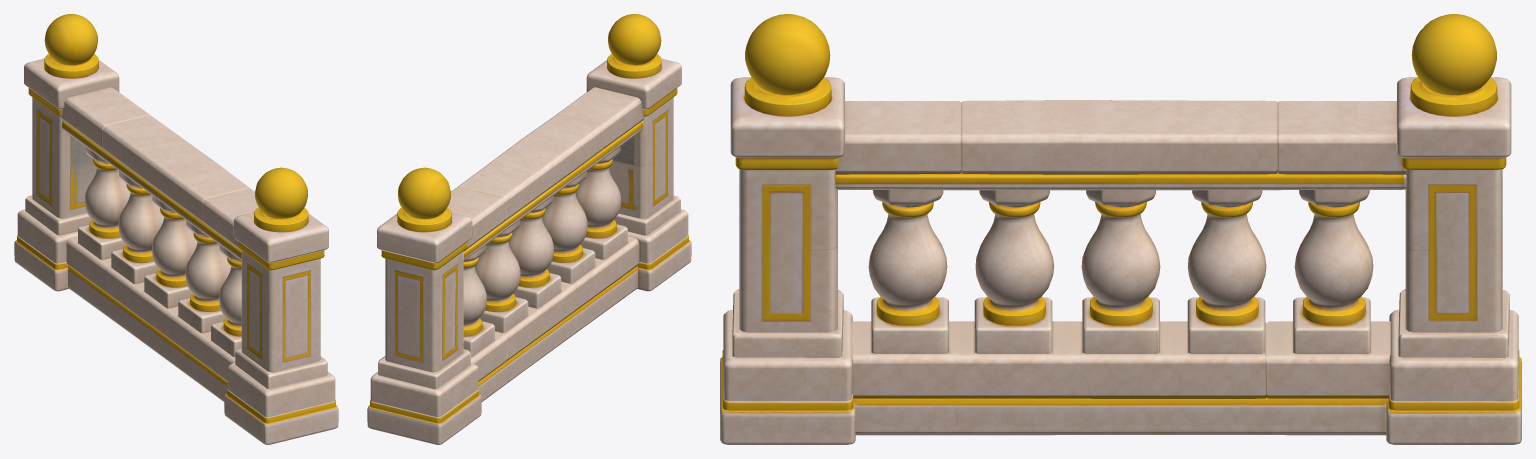
The model's file is HaloVar4_Balustrade_A_SM_tex4k_pbr_src.fbx.
3 renders of one model, left to right at view 1: azimuth 30°, elevation 25°; view 2: azimuth 150°, elevation 25°; view 3: azimuth 270°, elevation 25°, orthographic. The views are drawn at different scales.
Visible parts, largest first — view 1: d1c73bcd_e8c1_4b80_afcd_5da6a4029ccd; view 2: d1c73bcd_e8c1_4b80_afcd_5da6a4029ccd; view 3: d1c73bcd_e8c1_4b80_afcd_5da6a4029ccd.
Boxes of the visible parts, left/top/right/bottom form: d1c73bcd_e8c1_4b80_afcd_5da6a4029ccd: left=14, top=14, right=338, bottom=444; d1c73bcd_e8c1_4b80_afcd_5da6a4029ccd: left=367, top=14, right=691, bottom=444; d1c73bcd_e8c1_4b80_afcd_5da6a4029ccd: left=720, top=14, right=1521, bottom=444.
Bounding box in the file's own units: 0.1704 × 0.5503 × 0.9995.
1 material, 1 textured.
